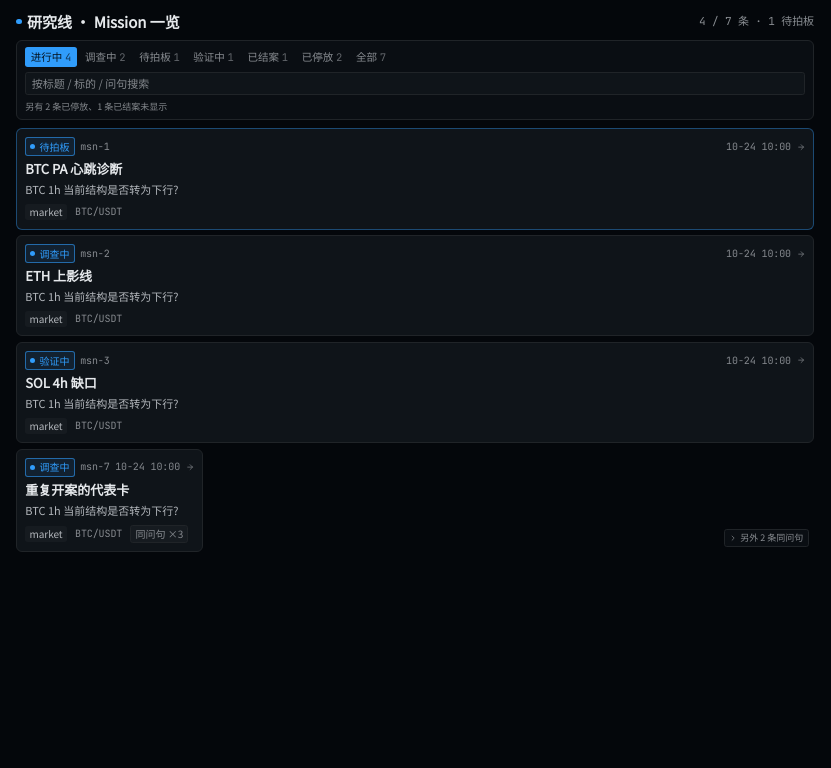
Test: MissionsListView 管理面 › 搜索匹配标题、标的与问句三个面
This screenshot has width=831, height=768.
In the search field with test id "mission-search": {"x": 415, "y": 84} [25, 72, 805, 95], type "eth"
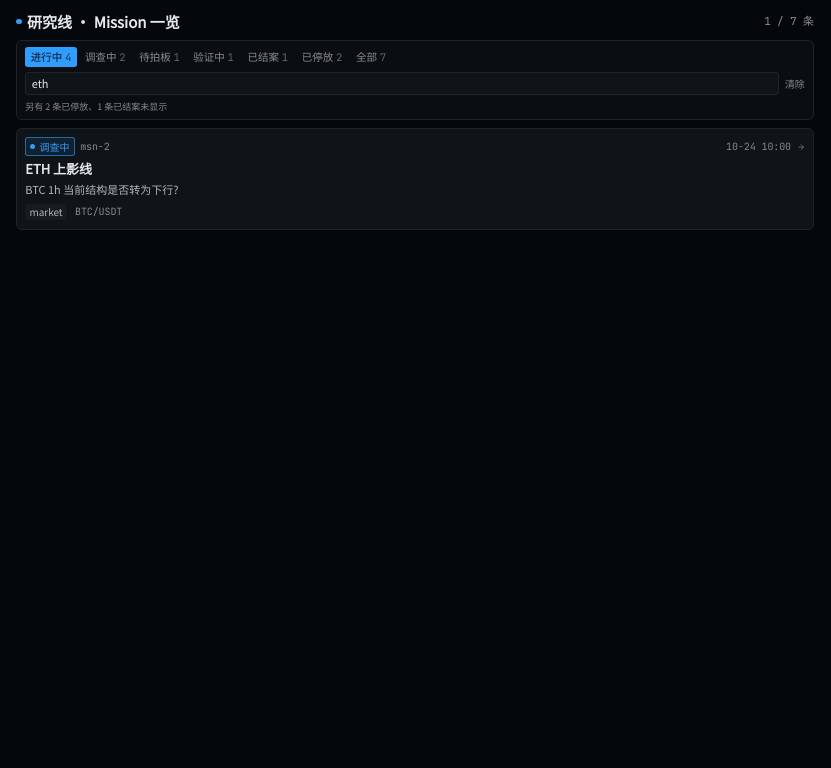
Expected: the heading "ETH 上影线" is shown, [25, 159, 92, 178]
Now the button "BTC PA 心跳诊断" is gone
标的命中:DOGE 只出现在已停放那条的 subject_id 上,但默认档不含 parked
Replace the text in the search field with test id "mission-search" with "DOGE": {"x": 402, "y": 84} [25, 72, 779, 95]
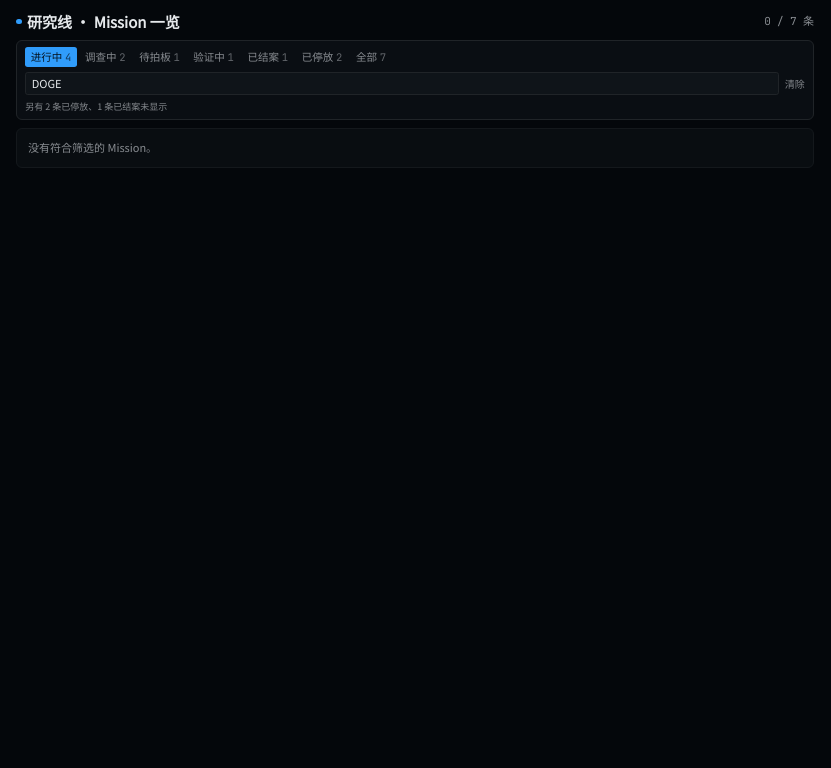
Now the text "没有符合筛选的 Mission。" is shown, box [16, 128, 814, 168]
Click the button with test id "mission-phase-all": {"x": 371, "y": 57} [350, 47, 392, 67]
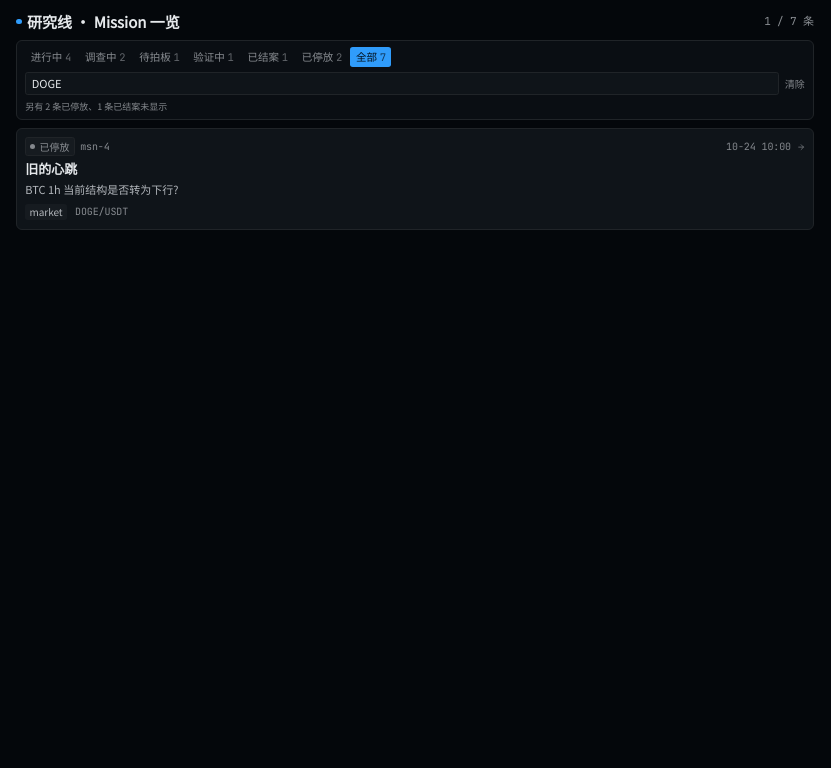
Now the heading "旧的心跳" is shown, box [25, 159, 77, 178]
Replace the text in the search field with test id "mission-search" with "结构是否转为下行": {"x": 402, "y": 84} [25, 72, 779, 95]
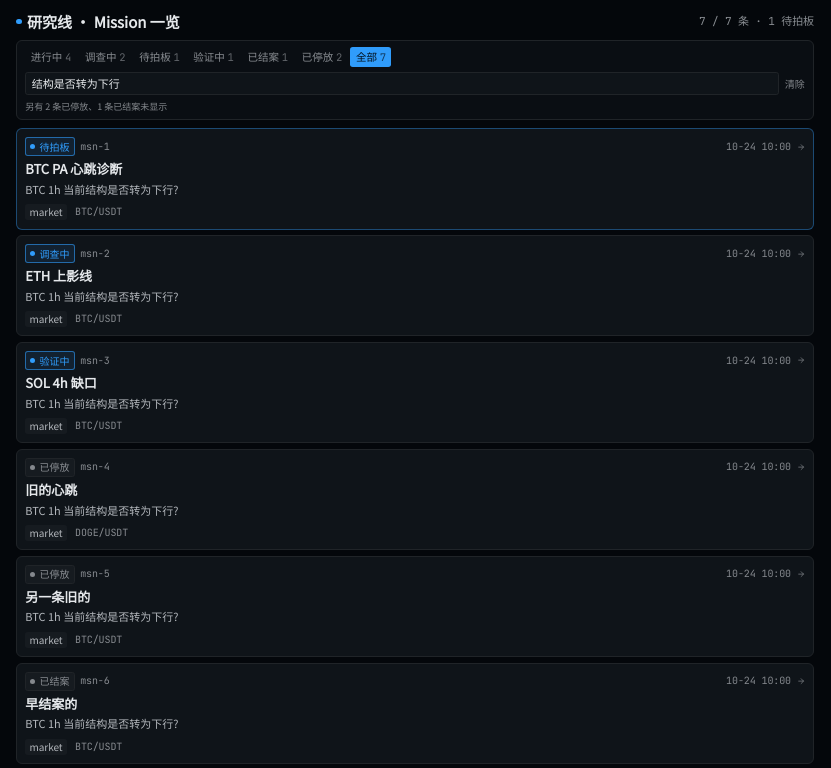
Now the heading "BTC PA 心跳诊断" is shown, box [25, 159, 122, 178]
